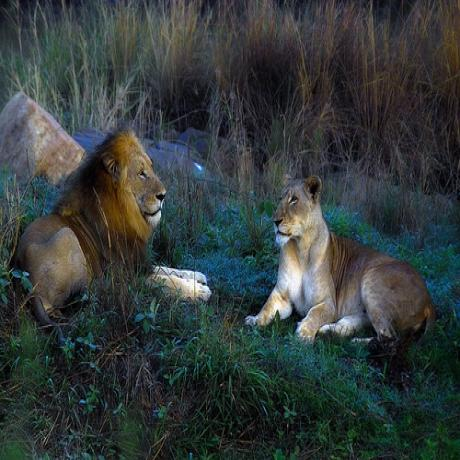Lion: (16, 122, 213, 330), (249, 173, 435, 356)
